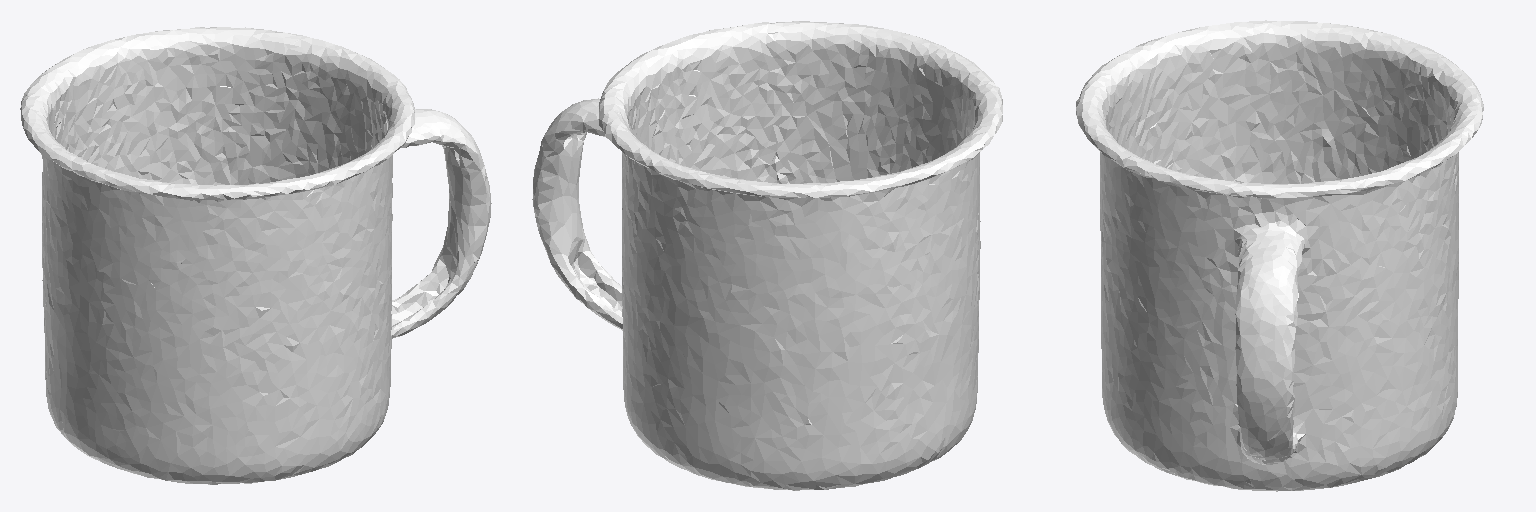
The robot description file, URDF, robot "025_mug":
<?xml version="1.0" ?>
<robot name="025_mug">
    <link name="baseLink">
        <contact>
        <friction_anchor/>
        <lateral_friction value="1.5"/>
        <rolling_friction value="0.1"/>
        <spinning_friction value="0.1"/>
        <contact_cfm value="1e-5"/>
        <contact_erp value="0.8"/>
        </contact>
        <visual>
            <origin rpy="0 0 0" xyz="0 0 0"/>
            <geometry>
                <mesh filename="assets/objects/025_mug/meshes/025_mug_textured.obj" scale="1 1 1"/>
            </geometry>
            <material name="white">
                <color rgba="1 1 1 1"/>
            </material>
        </visual>
        <collision>
            <origin rpy="0 0 0" xyz="0 0 0"/>
            <geometry>
                <mesh filename="assets/objects/025_mug/meshes/025_mug_textured.obj" scale="1 1 1"/>
            </geometry>
        </collision>
        <inertial>
            <origin rpy="0 0 0" xyz="0 0 0"/>
            <mass value="1.0"/>
            <inertia ixx="0.1" ixy="0" ixz="0" iyy="0.1" iyz="0" izz="0.1"/>
        </inertial>
    </link>
</robot>

--- Render facts (derived) ---
3 views of the same robot in one strip: view 1: azimuth 30°, elevation 25°; view 2: azimuth 150°, elevation 25°; view 3: azimuth 270°, elevation 25° (orthographic).
Model 025_mug with 1 links and 0 joints (none), rooted at baseLink, posed every joint at zero.
Links seen in each view (by area): view 1: baseLink; view 2: baseLink; view 3: baseLink.
Link boxes in pixels (box(x1,y1,x2,y2)): baseLink: box(20, 27, 491, 484); baseLink: box(532, 21, 1002, 490); baseLink: box(1076, 20, 1483, 491).
Bounding box of the posed robot: 0.117 × 0.0931 × 0.0813 m (x, y, z).
1 mesh visuals loaded from 1 distinct referenced files (1 OBJ).
